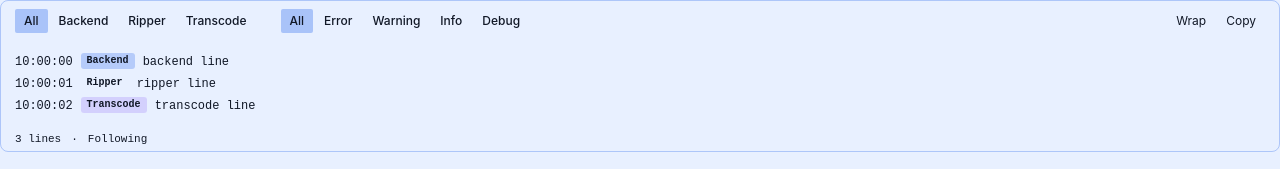
LogView › copies the filtered lines as plain text
This screenshot has width=1280, height=169.
Click the radio button with test id "job-log-filter-ripper". click: (147, 21)
box: [119, 9, 175, 33]
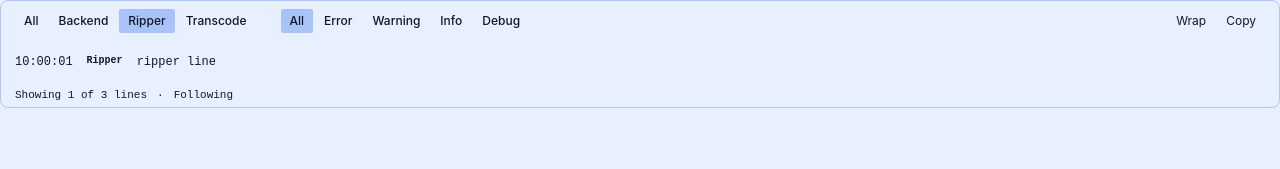
Click the button with test id "job-log-copy". click: (1241, 21)
box: [1217, 9, 1265, 33]
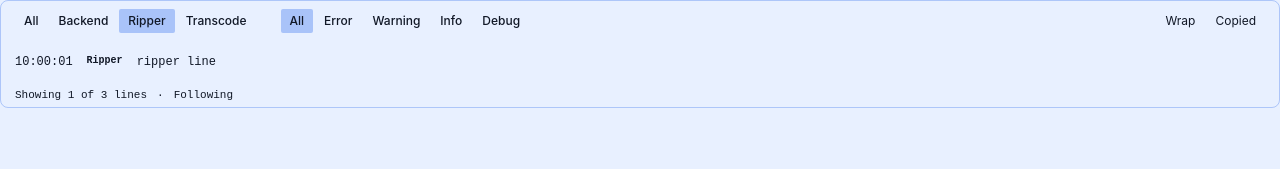
Now the button with test id "job-log-copy" reads "Copied", box [1206, 9, 1265, 33]
